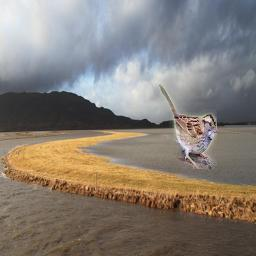Sparrow: (158, 84, 217, 169)
